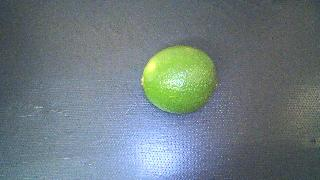EXPORTACION: (141, 45, 217, 113)
